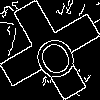O: (25, 25, 82, 85)
